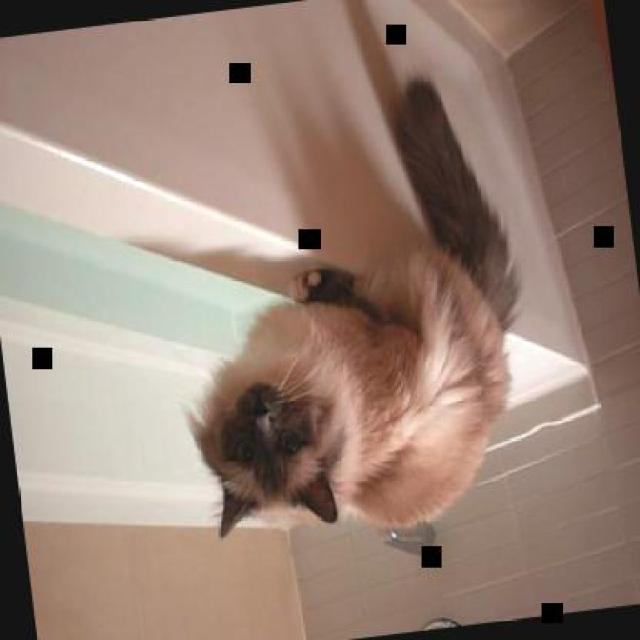cat: (156, 68, 541, 550)
